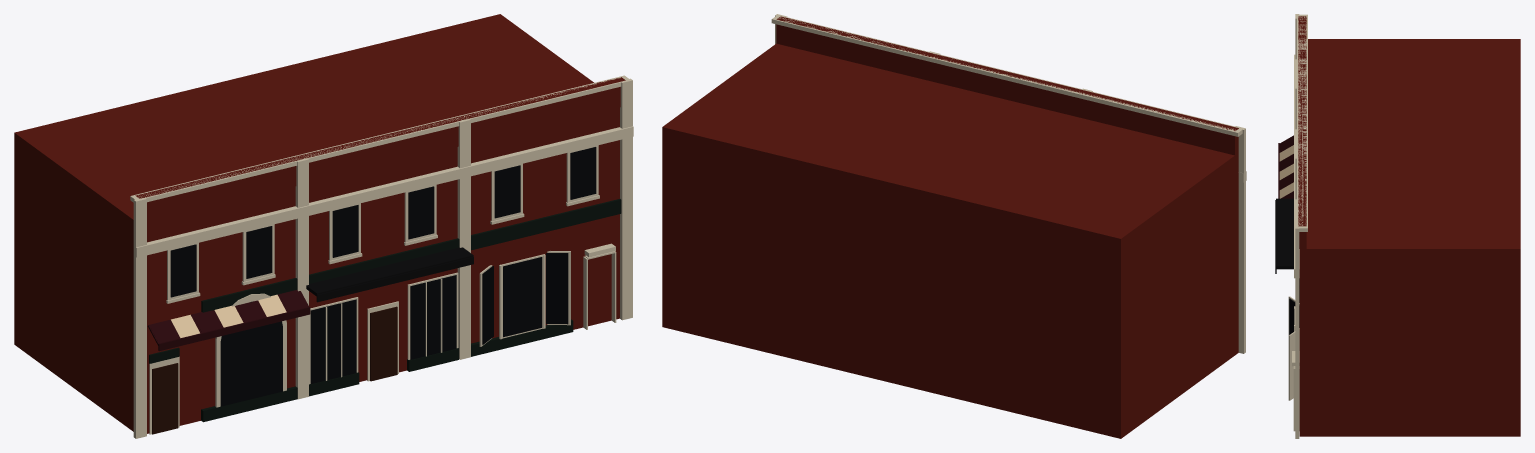
Rendered from DowntownStorefronts.obj.
3 views of the same model, side by side, from view 1: azimuth 30°, elevation 25°; view 2: azimuth 150°, elevation 25°; view 3: azimuth 270°, elevation 25° (orthographic). The views are drawn at different scales.
Parts seen in each view (by area): view 1: DowntownStorefronts; view 2: DowntownStorefronts; view 3: DowntownStorefronts.
Boxes of the visible parts, x1,y1,x2,y2 form: DowntownStorefronts: [14, 14, 633, 438]; DowntownStorefronts: [662, 14, 1246, 438]; DowntownStorefronts: [1275, 14, 1520, 438].
Bounding box in the file's own units: 18.4 × 8.4 × 8.88.
